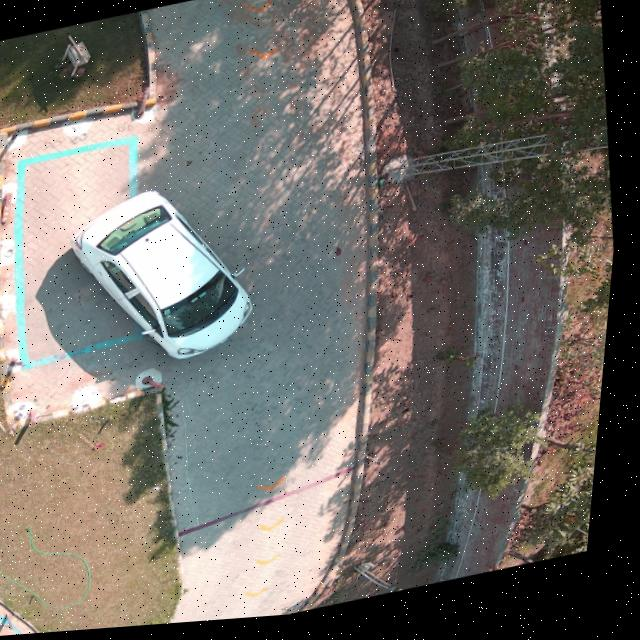car: (76, 193, 258, 363)
